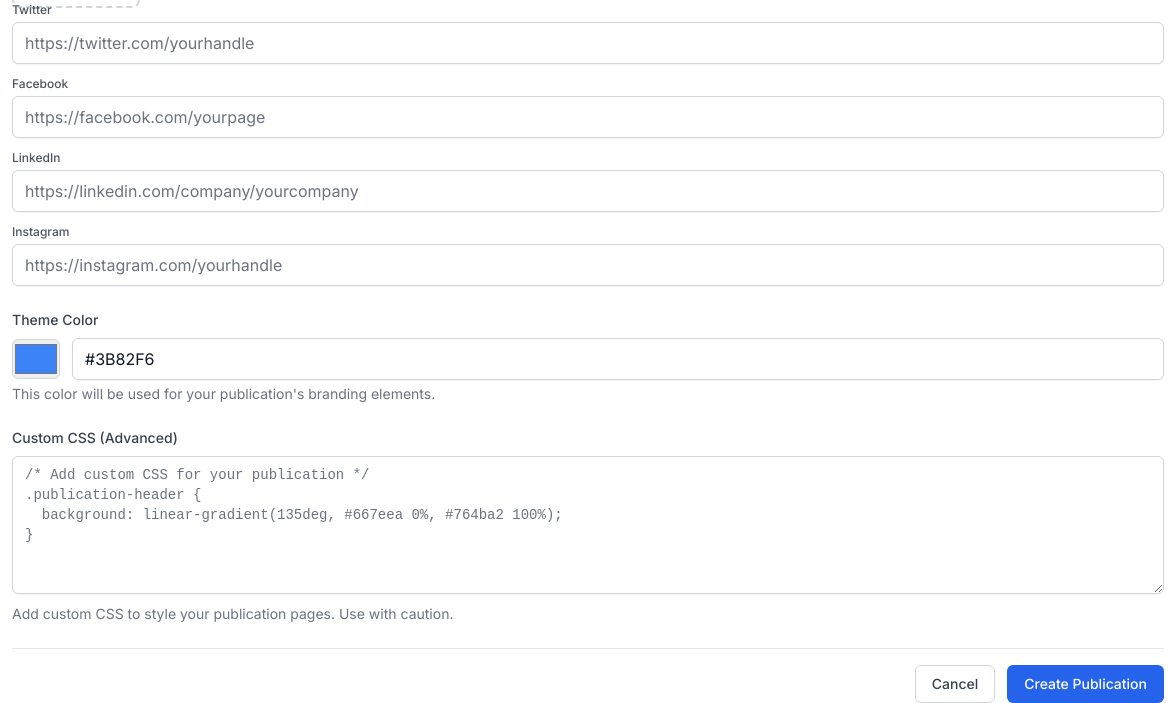
Test: PublicationForm › validates required fields
(page scrolled)
Click the button "Create Publication": click(1086, 684) x1=1007 y1=665 x2=1164 y2=702
(page scrolled)
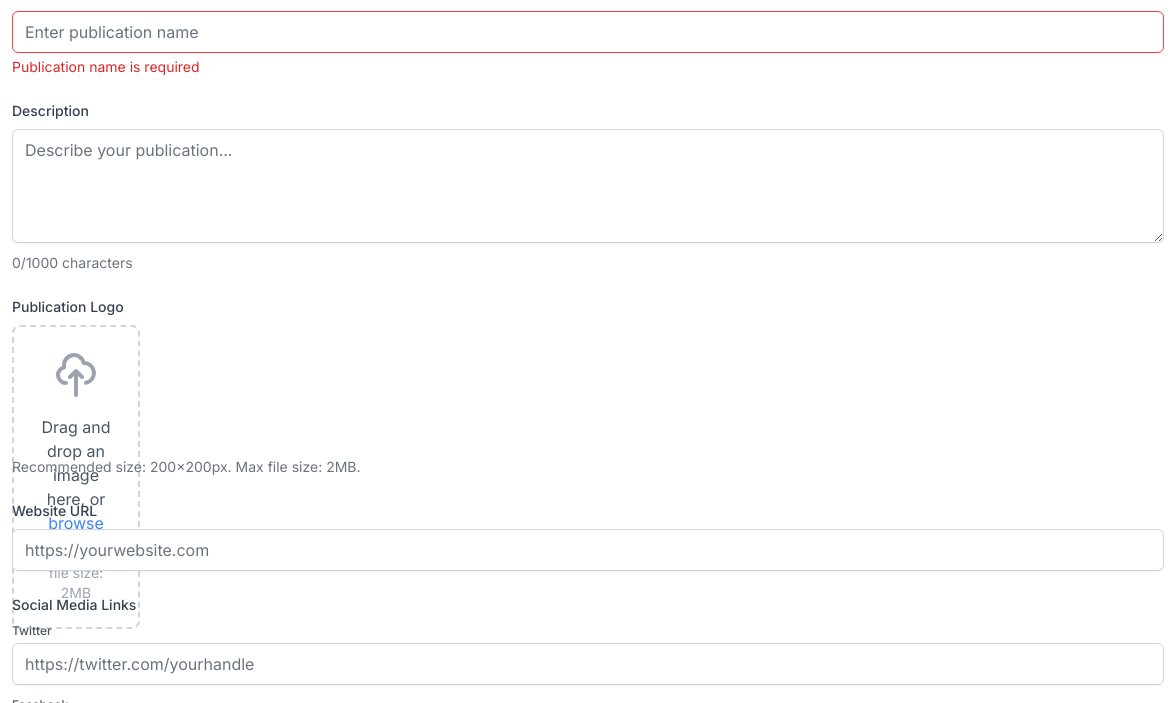
Expected: the text "Publication name is required" is shown, x1=12 y1=58 x2=200 y2=75
